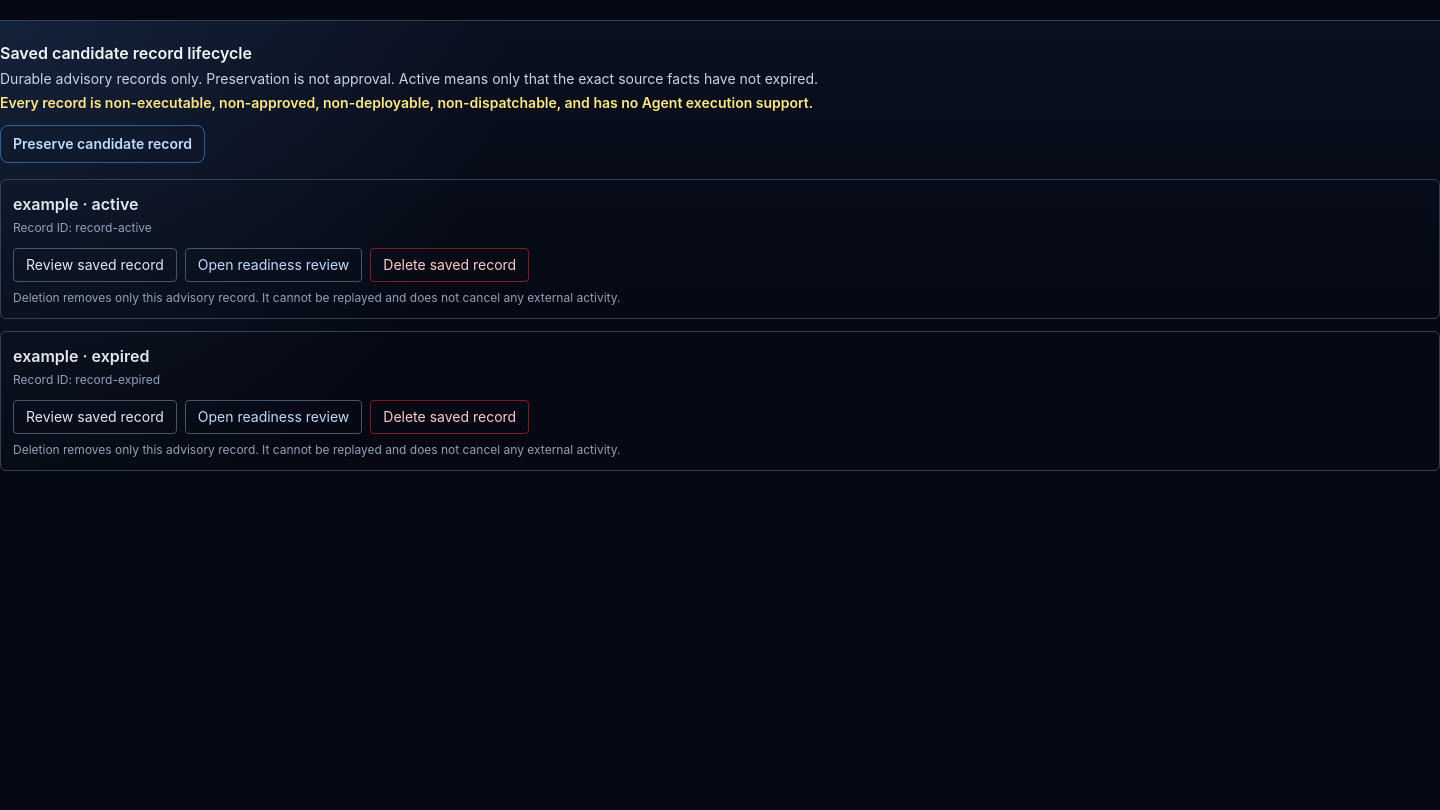
Test: installation candidate lifecycle › lists active and expired records, gets details, and visibly preserves five false flags
Check: the text "example · active" is shown, box [13,194,138,214]
Check: the text "example · expired" is shown, box [13,346,150,366]
Click the button "Review saved record" below "record-expired" at (95,417), box [13,400,177,434]
(page scrolled)
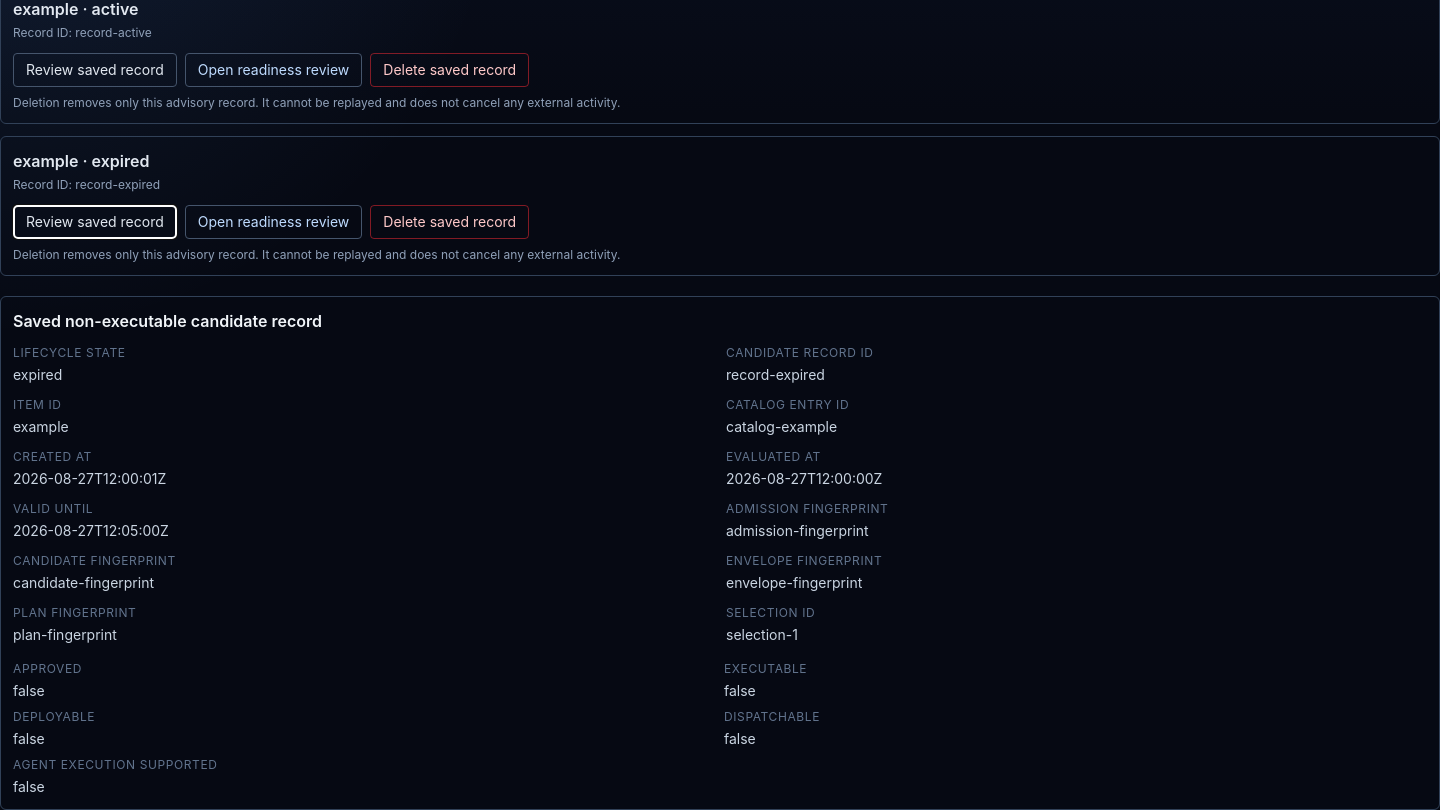
Check: the text "candidate-fingerprint" is shown, box [13,574,154,591]
Check: the element named "Saved candidate record authority flags" is shown, box [13,661,820,795]
Check: the text "false" is shown 5 times, box [13,682,45,699]; [724,682,756,699]; [13,730,45,747]; [724,730,756,747]; [13,778,45,795]
